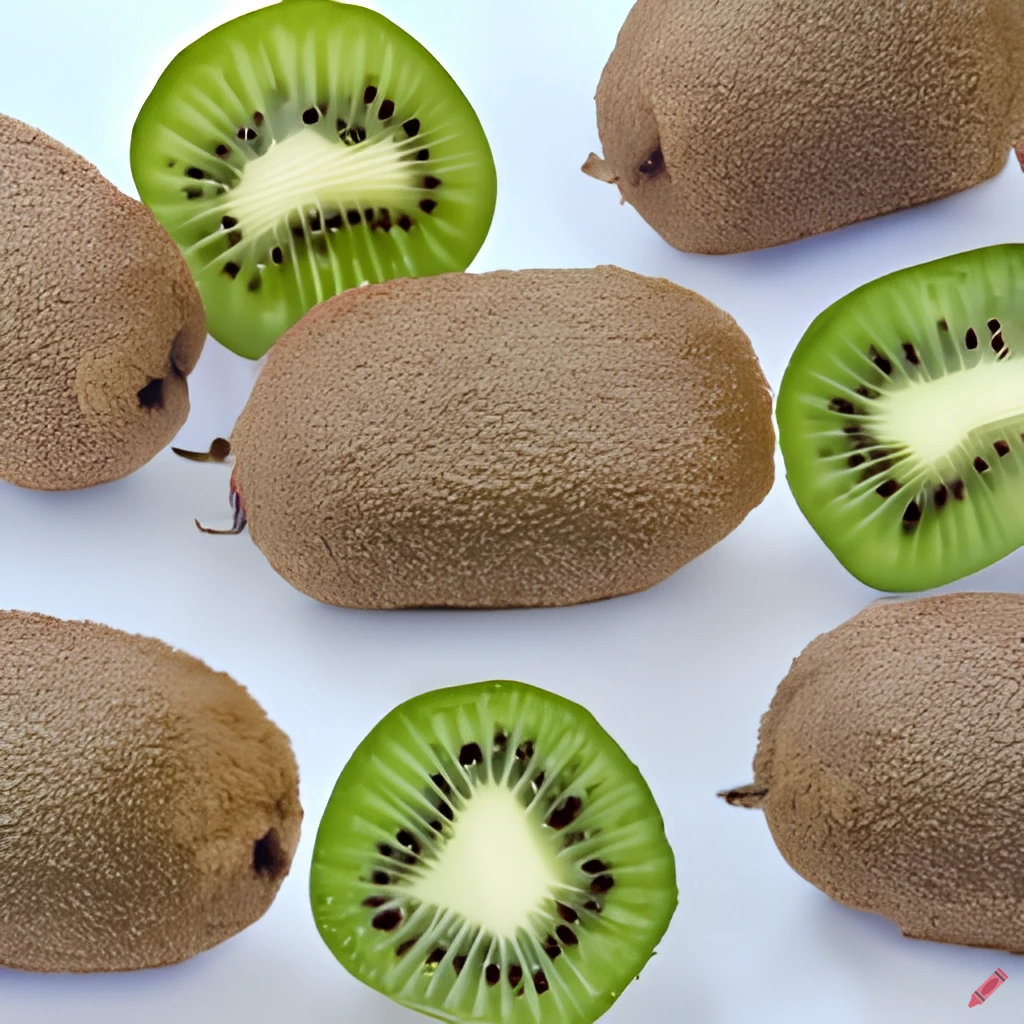Kiwi: (182, 234, 766, 590), (0, 600, 294, 1020), (715, 587, 1024, 960), (564, 0, 1004, 222)
